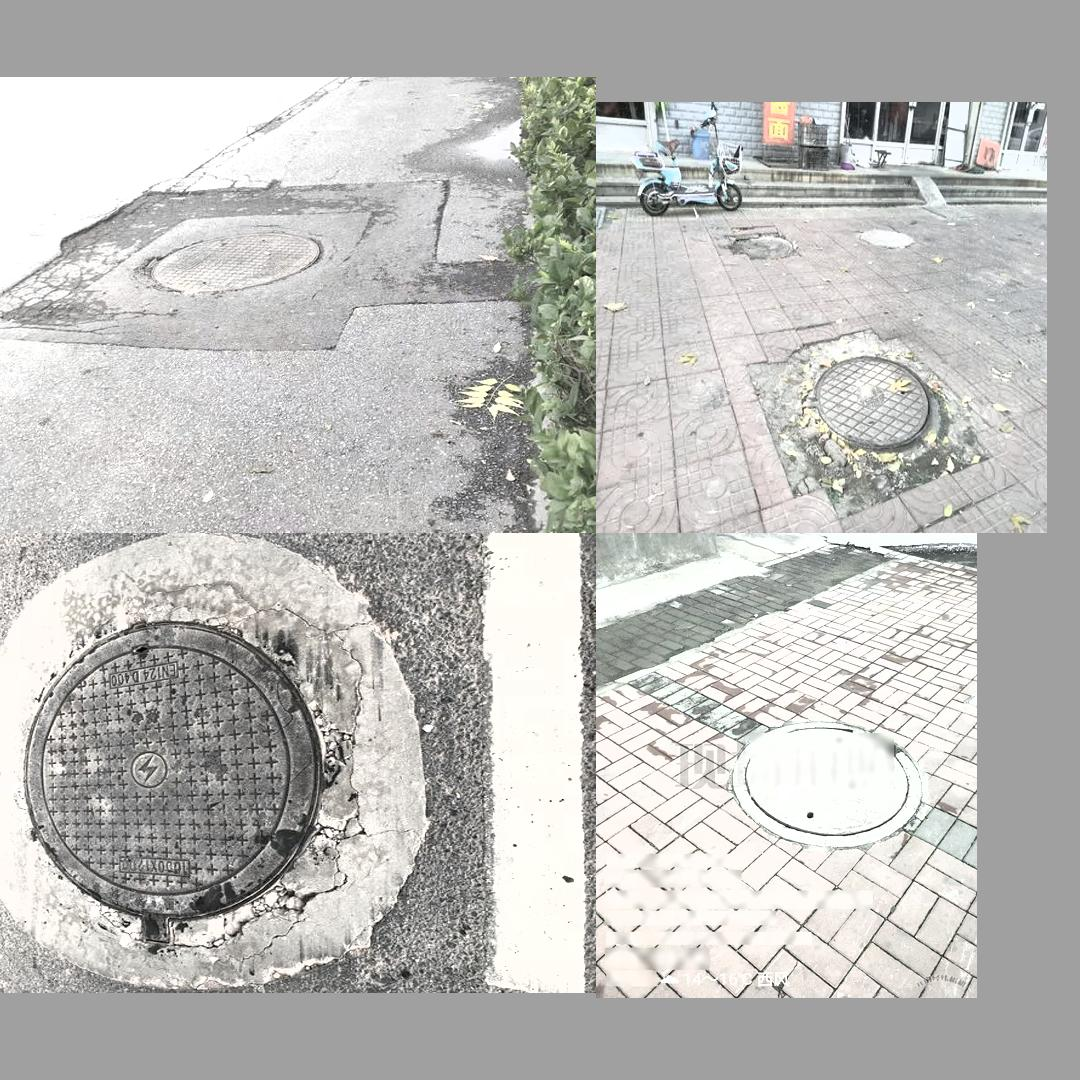circle: (0, 545, 424, 983), (19, 198, 435, 345), (757, 328, 973, 512), (728, 721, 925, 852)
